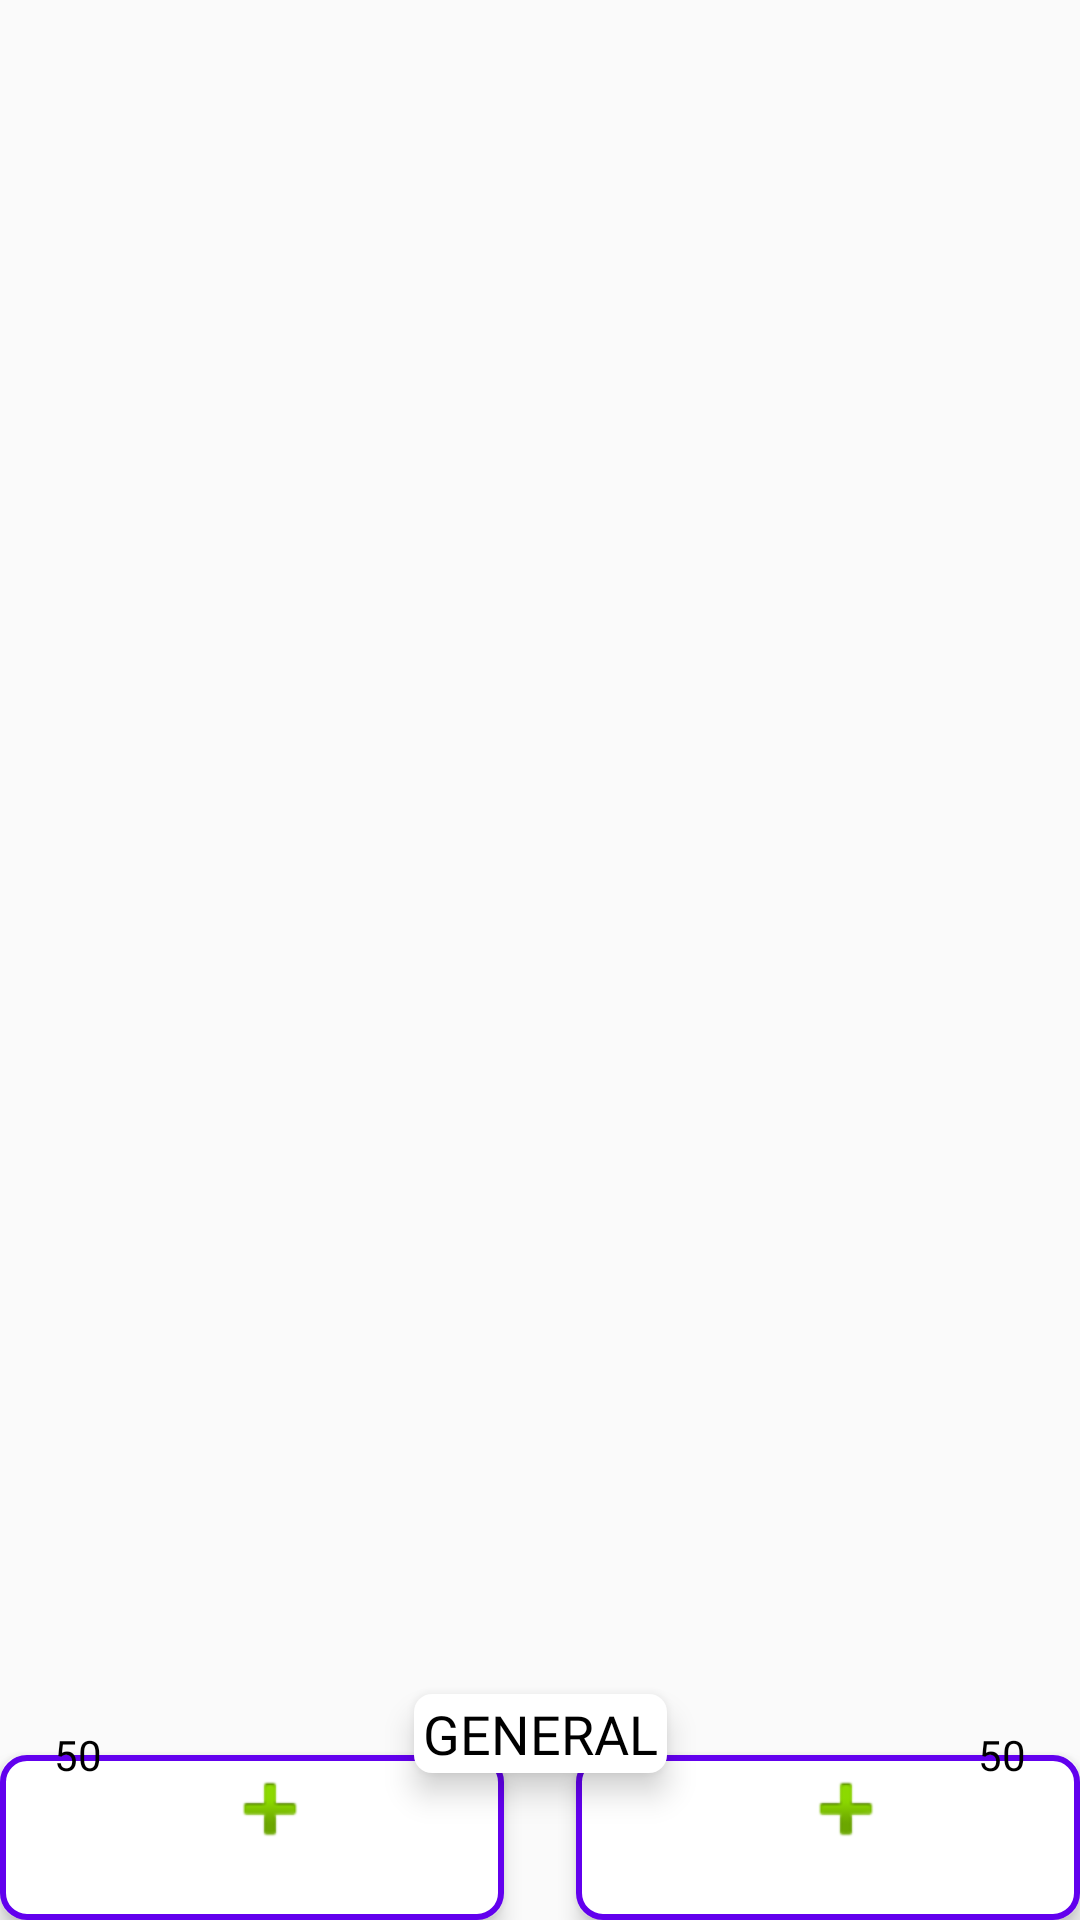

Point at icon controls on the screen. Image size 1080px×1920px, points as (x=x, y=y).
add: (x=270, y=1809), (x=846, y=1809)
